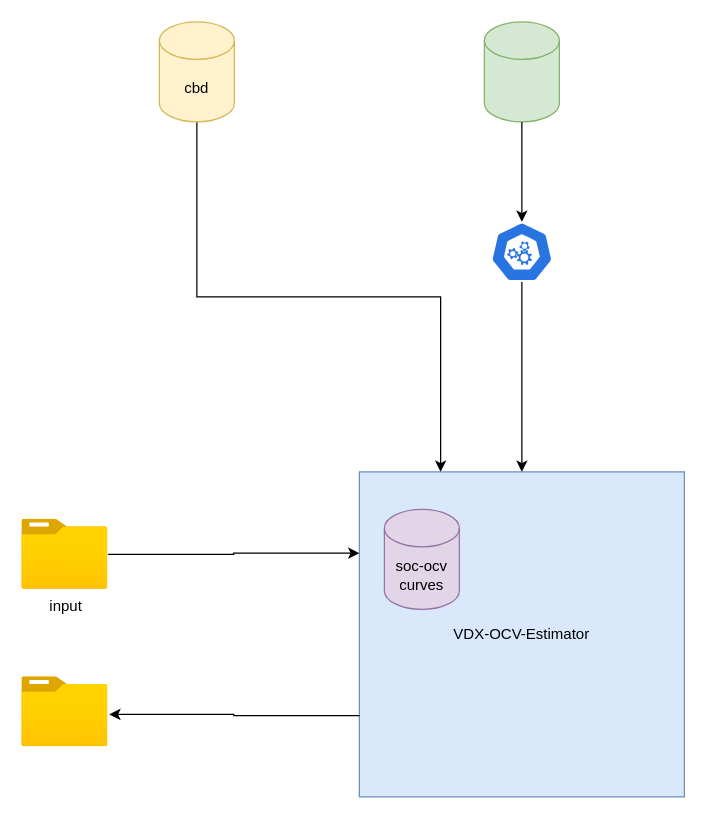
Some shapes in this 706 by 819 pixel diagram are drawn without their labels. The centre of each missing label's shape, as x and y in pixels:
output: [64,711]
sections: [521,71]
